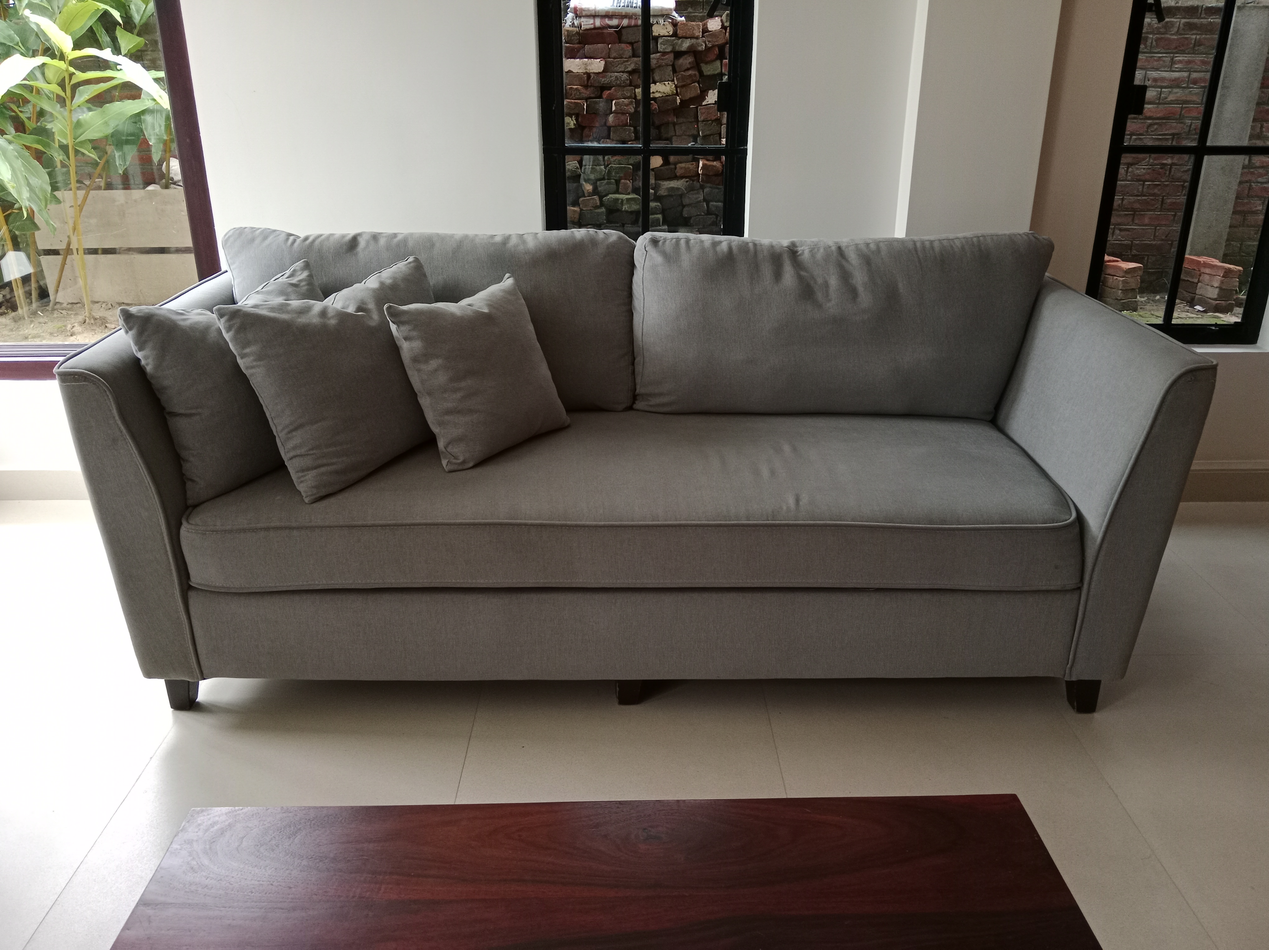sofa: (57, 228, 1222, 712)
table: (110, 790, 1103, 950)
